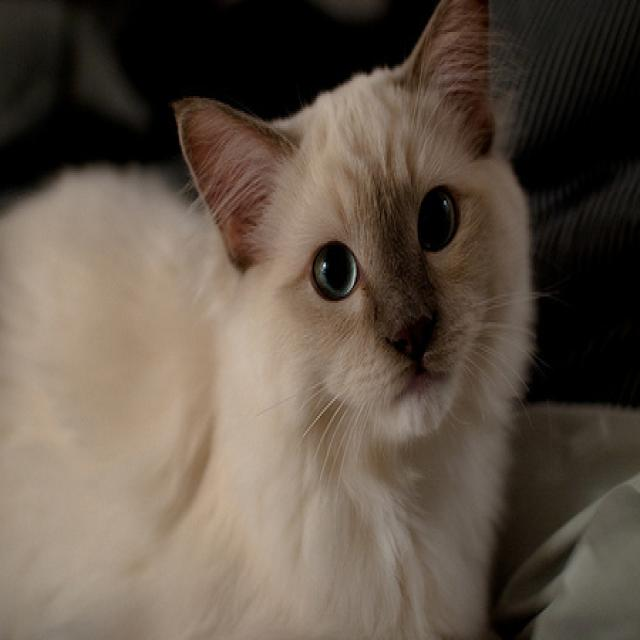Ragdoll: (0, 0, 533, 640)
